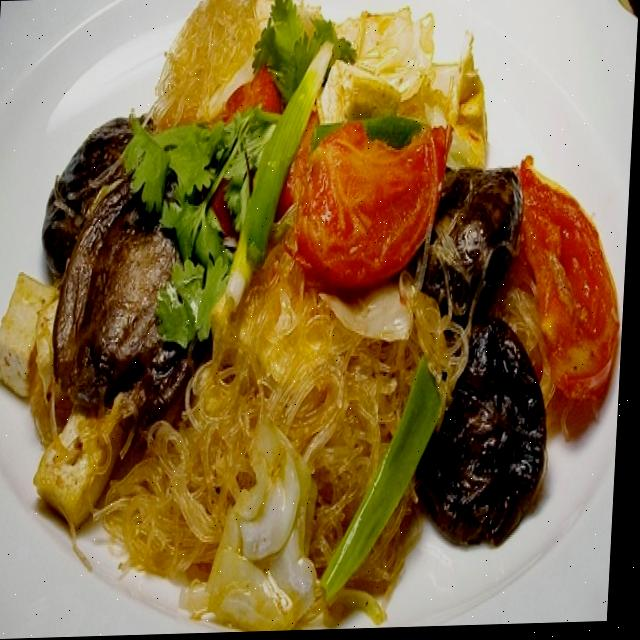蔬菜料理: (2, 0, 621, 624)
